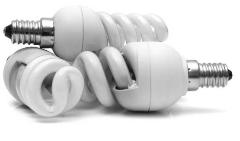lightbulb: (2, 4, 232, 118), (4, 4, 168, 62), (102, 41, 232, 113), (2, 46, 84, 117)
